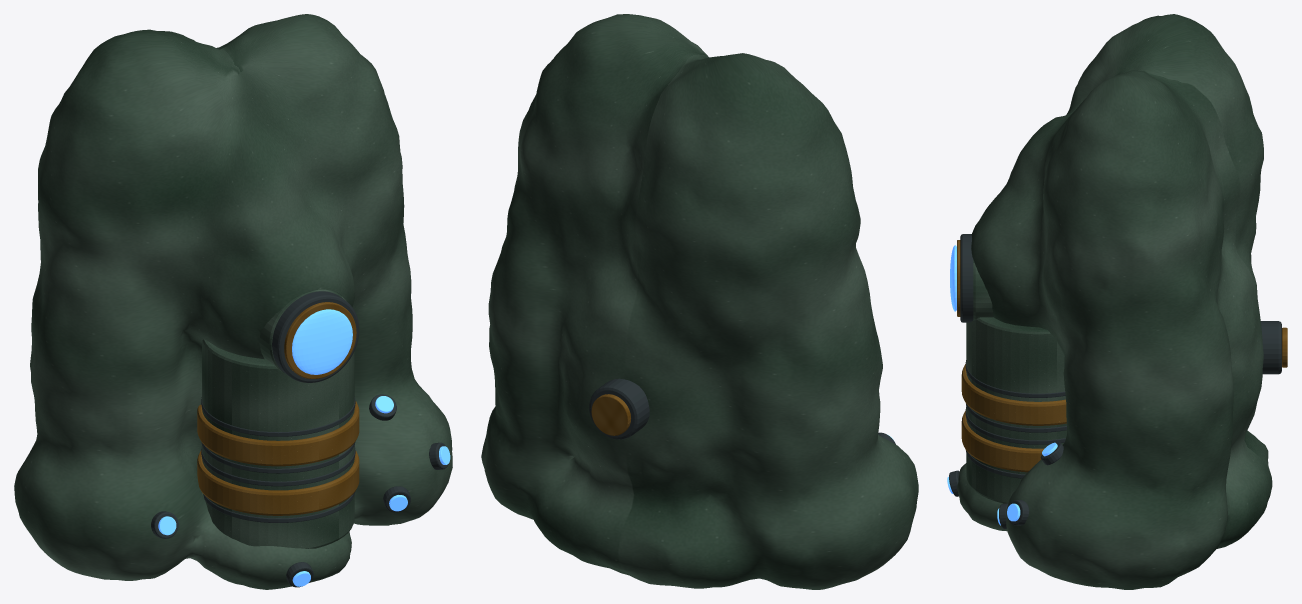
3 views of the same model, side by side, from view 1: azimuth 30°, elevation 25°; view 2: azimuth 150°, elevation 25°; view 3: azimuth 270°, elevation 25° (orthographic). The views are drawn at different scales.
Visible parts, largest first — view 1: Joined ore-like crown and supporting flanks, Central lower focusing neck, Brass focusing collar 0.91, Brass focusing collar 0.62, Main blue optical face, Emitter outer bezel, Emitter metal rim, Dark collar separator 0.73, Dark collar separator 1.02, Dark collar separator 0.805, Blue emitter backed seating, Dark collar separator 0.515; view 2: Joined ore-like crown and supporting flanks, Rear focusing service port, Rear inspection closure; view 3: Joined ore-like crown and supporting flanks, Central lower focusing neck, Brass focusing collar 0.91, Brass focusing collar 0.62, Emitter outer bezel, Rear focusing service port, Blue emitter backed seating, Dark collar separator 1.02, Dark collar separator 0.73, Dark collar separator 0.805.
Part boxes in pixels (left/top/right/bottom): Joined ore-like crown and supporting flanks: left=14, top=14, right=452, bottom=589; Central lower focusing neck: left=202, top=339, right=354, bottom=548; Brass focusing collar 0.91: left=197, top=401, right=359, bottom=466; Brass focusing collar 0.62: left=197, top=450, right=359, bottom=515; Main blue optical face: left=292, top=309, right=352, bottom=374; Emitter outer bezel: left=272, top=291, right=359, bottom=382; Emitter metal rim: left=284, top=302, right=356, bottom=378; Dark collar separator 0.73: left=201, top=446, right=355, bottom=486; Dark collar separator 1.02: left=201, top=396, right=355, bottom=436; Dark collar separator 0.805: left=201, top=442, right=355, bottom=473; Blue emitter backed seating: left=259, top=289, right=345, bottom=372; Dark collar separator 0.515: left=203, top=492, right=355, bottom=522; Joined ore-like crown and supporting flanks: left=481, top=14, right=918, bottom=589; Rear focusing service port: left=589, top=378, right=649, bottom=439; Rear inspection closure: left=591, top=394, right=630, bottom=435; Joined ore-like crown and supporting flanks: left=957, top=14, right=1272, bottom=589; Central lower focusing neck: left=966, top=317, right=1066, bottom=503; Brass focusing collar 0.91: left=961, top=364, right=1066, bottom=425; Brass focusing collar 0.62: left=961, top=411, right=1043, bottom=472; Emitter outer bezel: left=960, top=234, right=973, bottom=322; Rear focusing service port: left=1260, top=321, right=1281, bottom=374; Blue emitter backed seating: left=973, top=260, right=993, bottom=320; Dark collar separator 1.02: left=965, top=360, right=1065, bottom=397; Dark collar separator 0.73: left=965, top=407, right=1065, bottom=444; Dark collar separator 0.805: left=966, top=403, right=1066, bottom=432.
Bounding box in the file's own units: 2.42 × 2.97 × 1.91.
Materials: 4 (2 with a texture image).
